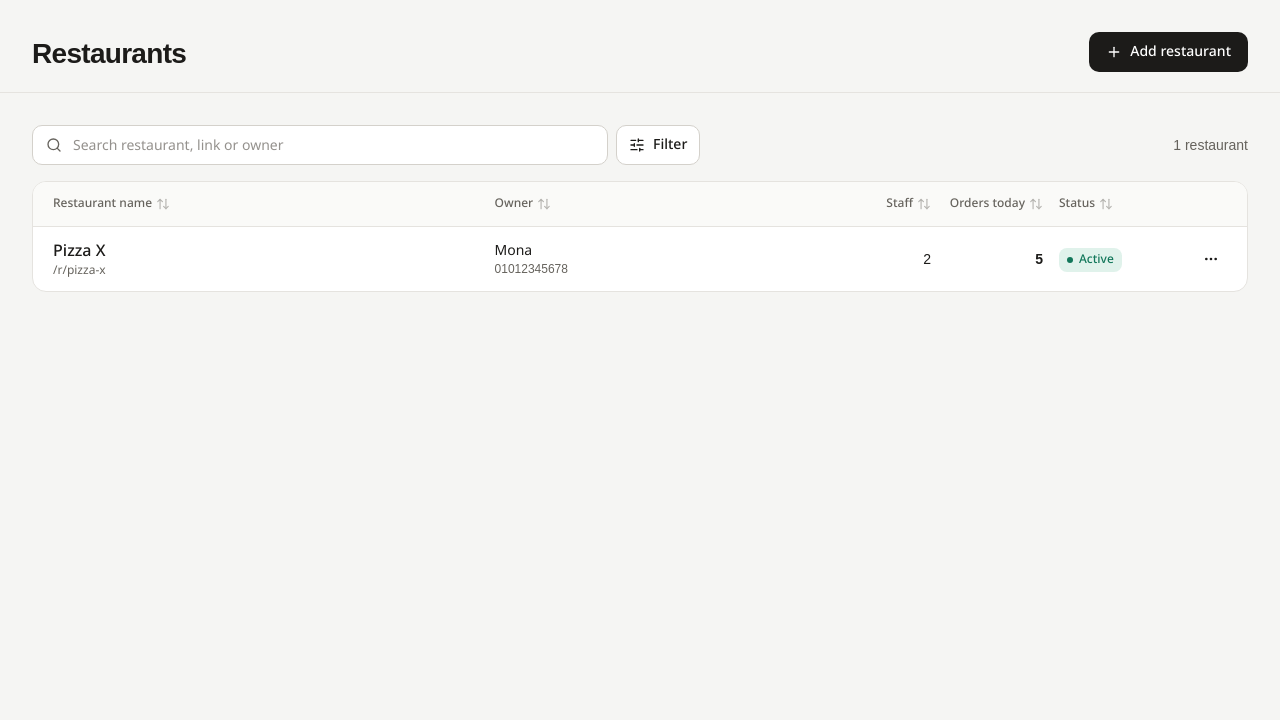
Test: AdminRestaurants › creates a restaurant
The image size is (1280, 720).
Click the button "Add restaurant": coordinates (1169, 52) [1089,32,1248,72]
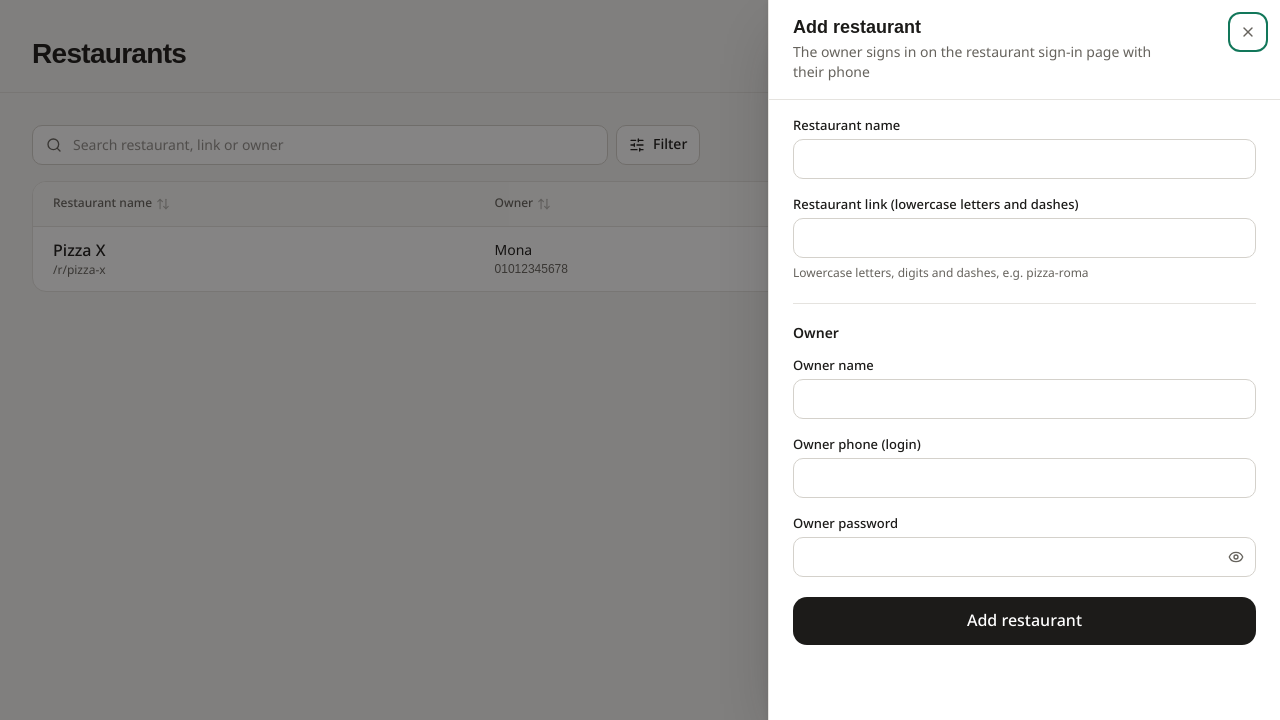
In the field labelled "Restaurant name": coordinates (1024, 158) [793,138,1256,178], type "Burger Y"
In the field labelled "Restaurant link (lowercase letters and dashes)": coordinates (1024, 238) [793,218,1256,258], type "burger-y"
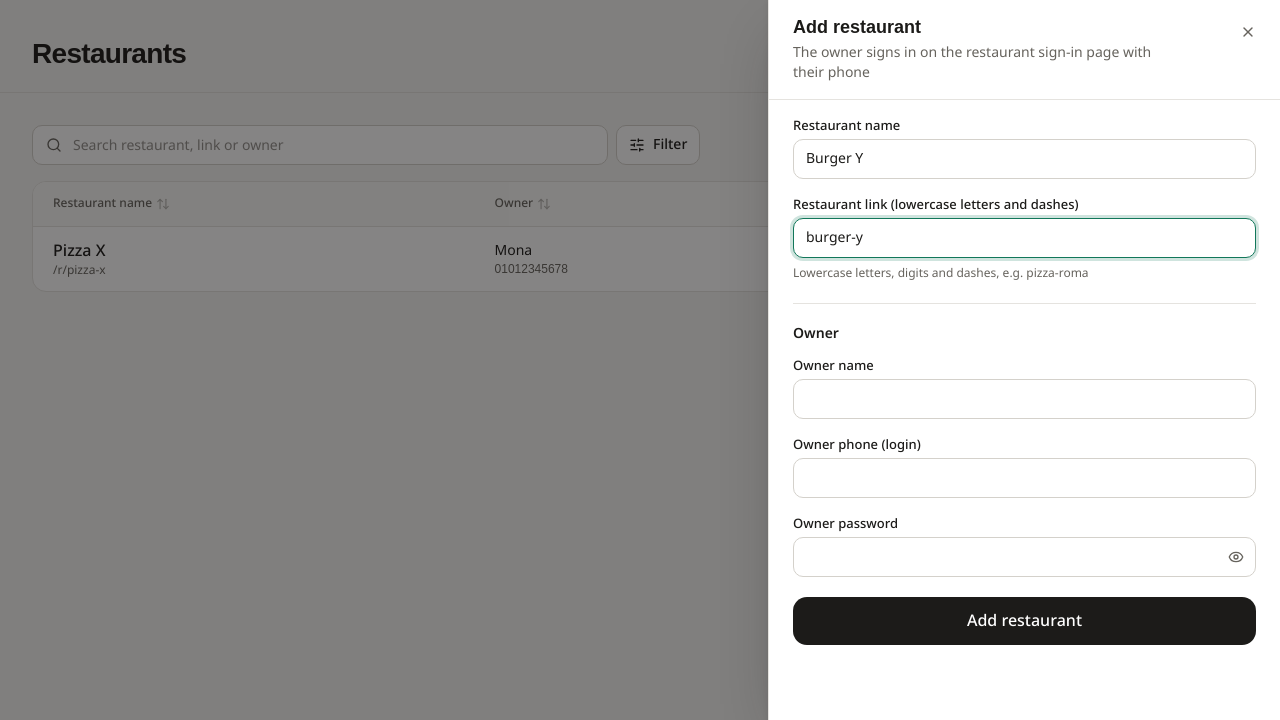
In the field labelled "Owner name": coordinates (1024, 399) [793,379,1256,419], type "Ali"
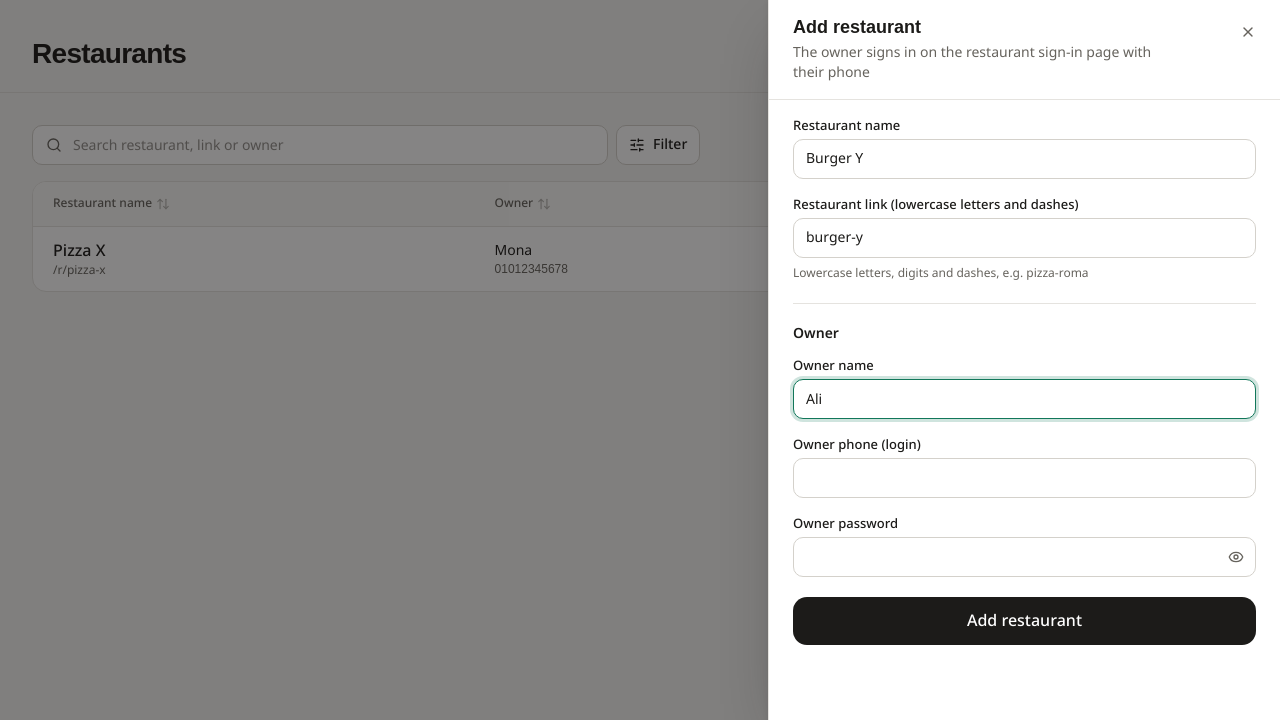
In the field labelled "Owner phone (login)": coordinates (1024, 478) [793,458,1256,498], type "01111111111"
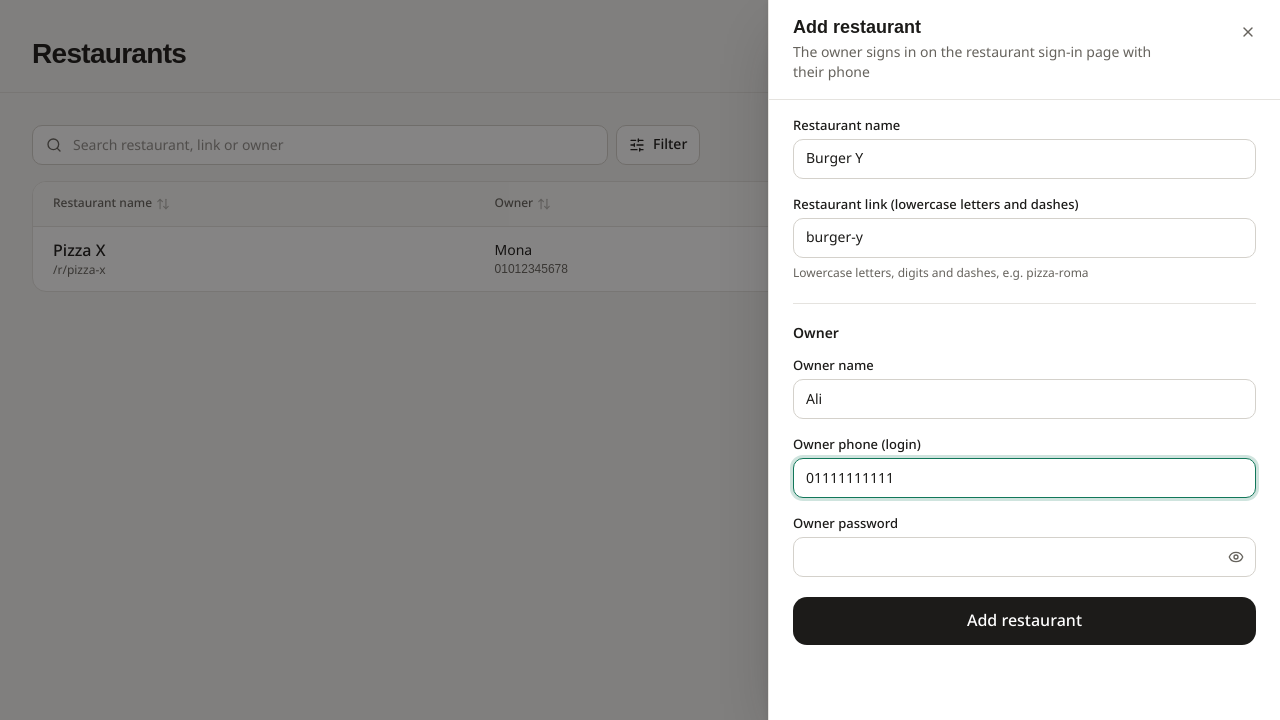
In the password field labelled "Owner password": coordinates (1024, 557) [793,537,1256,577], type "owner-pass-1"
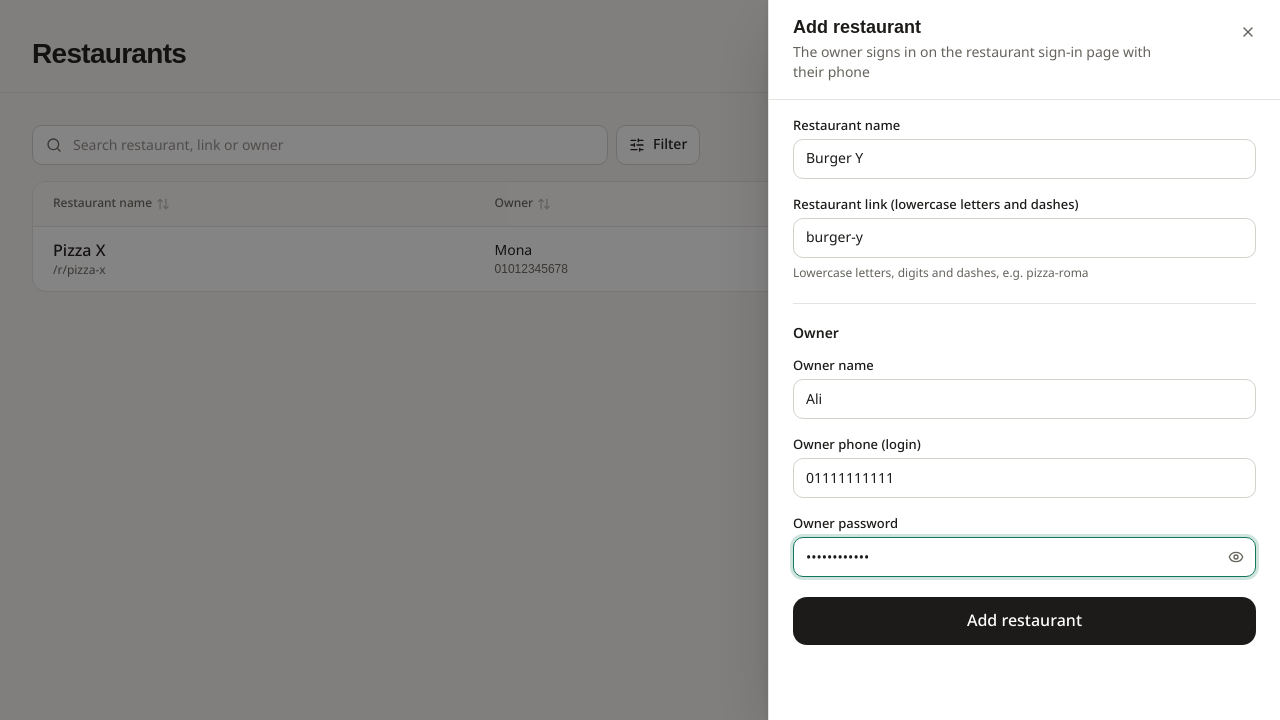
Click the button "Add restaurant": coordinates (1024, 621) [793,597,1256,645]
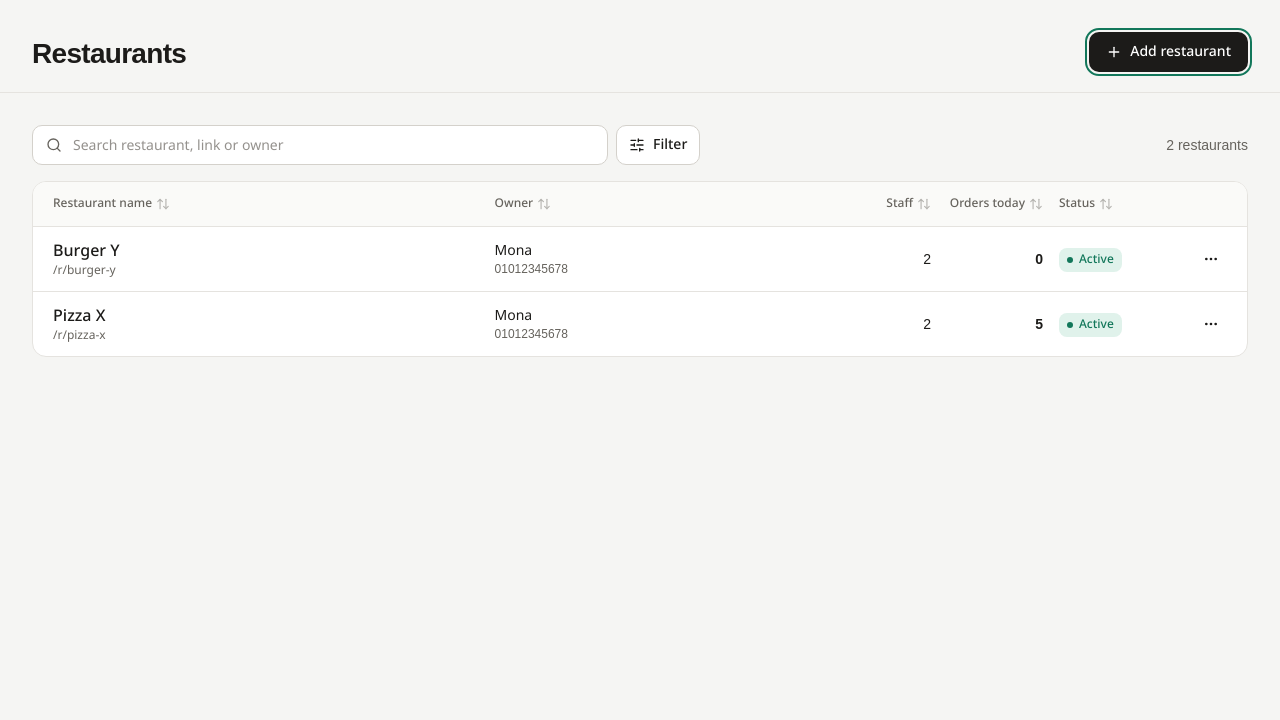
Now the link "Burger Y" is shown, box [53,234,120,268]
